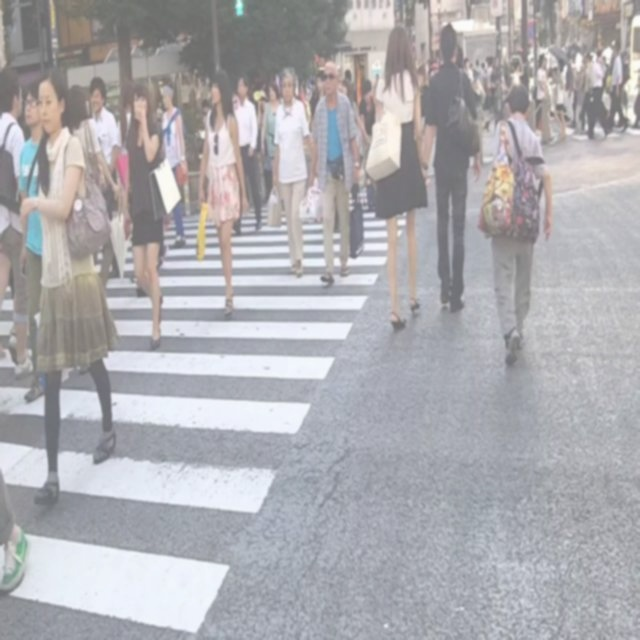pessoa: (17, 61, 125, 510), (476, 80, 556, 373), (364, 22, 430, 338), (416, 19, 484, 318), (15, 76, 60, 402), (197, 68, 250, 318), (121, 82, 167, 352), (306, 62, 361, 286), (67, 82, 125, 292), (122, 83, 174, 300), (0, 63, 35, 381), (271, 66, 317, 274), (88, 74, 124, 281), (158, 76, 190, 250), (534, 38, 632, 94), (232, 73, 262, 235), (0, 442, 31, 590), (255, 68, 286, 204), (340, 77, 372, 202), (456, 40, 499, 110), (357, 78, 378, 214), (585, 49, 615, 140), (604, 40, 630, 135), (501, 44, 534, 118), (260, 80, 282, 169), (1, 245, 14, 367), (610, 46, 628, 129), (408, 53, 442, 96), (552, 56, 568, 142), (579, 50, 595, 134), (570, 51, 586, 132), (297, 76, 317, 130), (535, 52, 547, 130), (563, 59, 575, 128), (312, 69, 326, 122), (632, 54, 640, 132), (144, 84, 162, 112), (156, 242, 169, 278), (372, 66, 382, 100), (338, 68, 352, 92), (202, 96, 212, 124), (232, 92, 242, 118)
